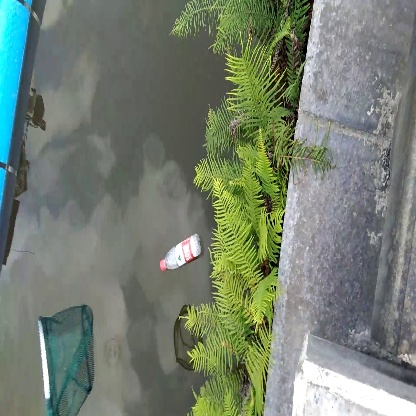bottle: (159, 236, 205, 275)
